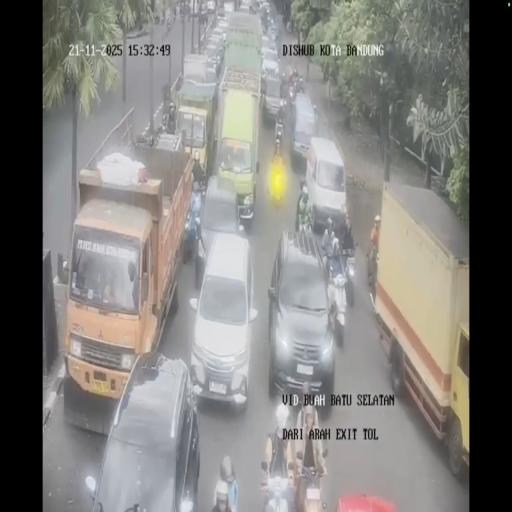car: (89, 351, 200, 509), (267, 230, 336, 400), (197, 174, 242, 278), (304, 137, 346, 233), (290, 93, 321, 169), (262, 71, 284, 124), (203, 38, 225, 81), (260, 43, 278, 77), (216, 16, 230, 40), (267, 26, 279, 48), (198, 2, 209, 21), (216, 2, 228, 19), (239, 0, 251, 13), (260, 1, 270, 16), (180, 1, 190, 16), (206, 0, 216, 14)
motorcycle: (324, 240, 355, 324), (292, 444, 329, 512), (261, 461, 295, 511), (287, 68, 303, 100), (366, 244, 377, 287), (274, 111, 284, 146), (260, 14, 268, 32), (160, 9, 168, 26), (166, 15, 172, 31), (286, 20, 292, 33), (172, 5, 176, 21)
truck: (372, 182, 469, 478), (172, 72, 218, 182), (222, 9, 264, 86)
